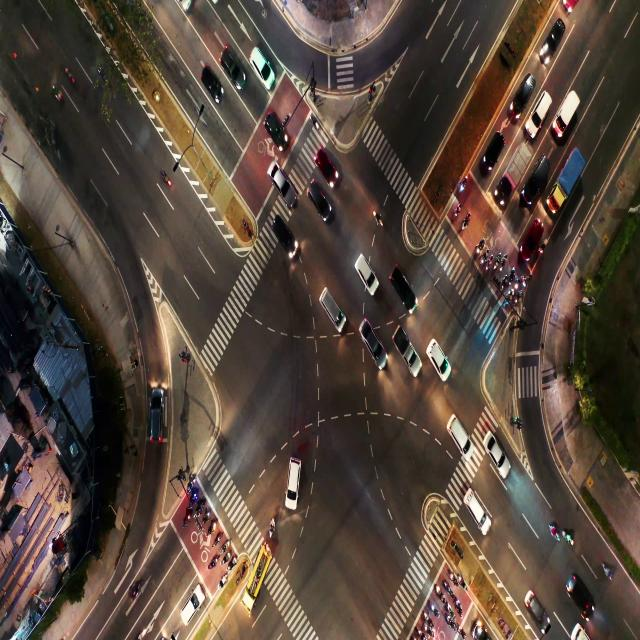bus: (253, 560, 263, 588)
car: (363, 333, 384, 360), (324, 292, 340, 321), (206, 69, 218, 96), (529, 602, 544, 622), (391, 266, 403, 290), (572, 576, 584, 600), (534, 166, 547, 188), (450, 426, 464, 446), (277, 218, 286, 247), (287, 464, 297, 488), (185, 602, 197, 622), (430, 344, 441, 364), (529, 226, 541, 244), (153, 399, 159, 434), (493, 444, 503, 465), (358, 260, 368, 278), (521, 83, 530, 102), (267, 112, 275, 132), (488, 143, 498, 159), (536, 102, 545, 119), (314, 188, 321, 208), (471, 498, 481, 511), (274, 171, 282, 187), (320, 152, 328, 168), (224, 51, 230, 72), (256, 56, 264, 70), (553, 28, 559, 44)
motorcycle: (96, 65, 109, 87), (548, 525, 558, 545), (162, 169, 172, 187), (54, 88, 65, 102), (64, 66, 73, 83), (604, 561, 611, 581), (268, 516, 275, 535), (373, 215, 384, 226), (566, 534, 576, 546), (131, 583, 139, 596), (312, 120, 320, 128), (213, 556, 218, 566), (221, 575, 226, 585), (514, 296, 519, 306), (455, 597, 460, 607), (430, 602, 435, 612), (185, 515, 189, 527), (447, 616, 452, 625), (460, 180, 464, 191), (197, 504, 201, 514), (231, 556, 235, 566), (539, 244, 543, 254), (454, 209, 458, 219), (224, 554, 228, 563), (463, 219, 467, 228), (522, 281, 526, 290), (424, 612, 428, 621), (459, 577, 464, 584), (416, 627, 421, 634), (216, 534, 220, 542), (508, 278, 512, 286), (444, 581, 448, 589), (477, 246, 480, 256), (511, 290, 514, 300), (188, 480, 191, 489), (204, 512, 207, 521), (191, 495, 195, 501), (499, 266, 503, 272), (501, 282, 504, 290), (450, 574, 454, 580), (436, 586, 440, 592), (459, 624, 462, 632), (424, 627, 428, 633), (210, 523, 212, 533), (515, 284, 518, 290), (226, 541, 228, 549), (448, 602, 450, 610), (482, 257, 484, 264), (494, 263, 496, 270), (486, 264, 488, 270)
truck: (400, 336, 414, 358), (510, 159, 520, 179), (565, 167, 574, 189), (564, 104, 572, 118)
